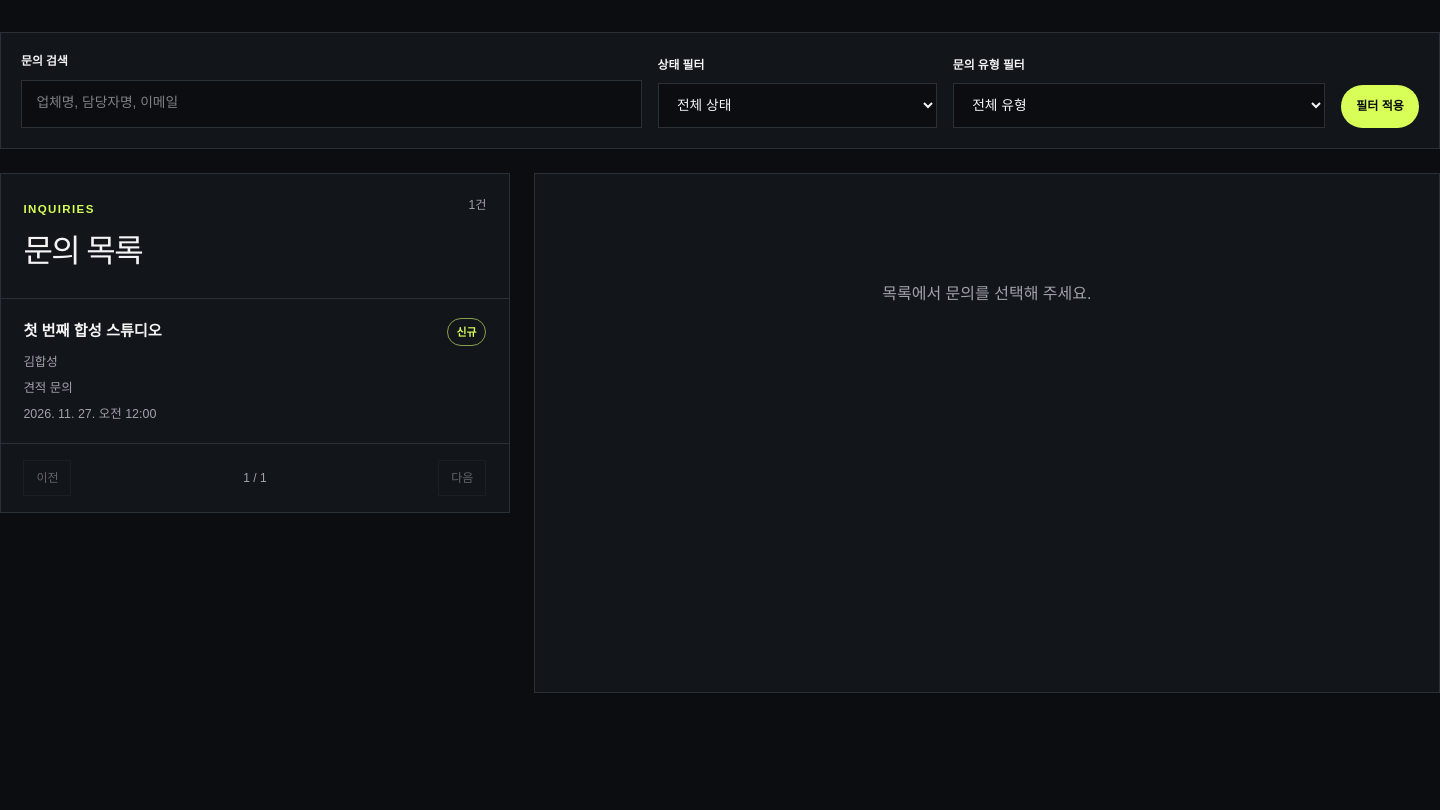
Test: 관리자 문의 관리 화면 › 목록에서 문의를 선택해 고객 내용과 내부 메모를 구분해 확인한다
Click the button with aria-label "첫 번째 합성 스튜디오 김합성" at (93, 331), box [1,299,509,443]
(page scrolled)
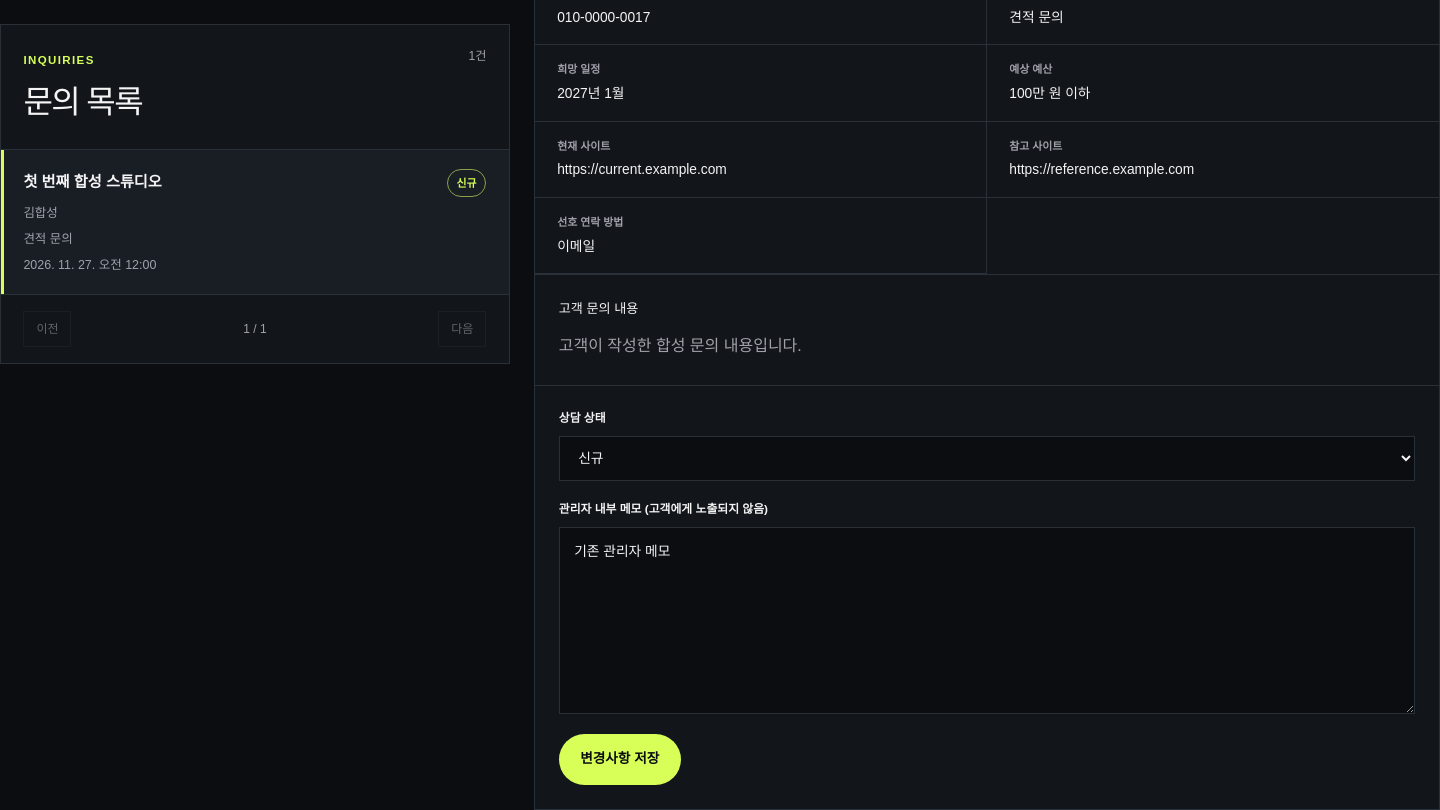
Expected: the text "고객이 작성한 합성 문의 내용입니다." is shown, [559,337,802,354]
Expected: the heading "고객 문의 내용" is shown, [559,302,638,316]
Expected: the link "https://current.example.com" is shown, [557,162,727,178]
